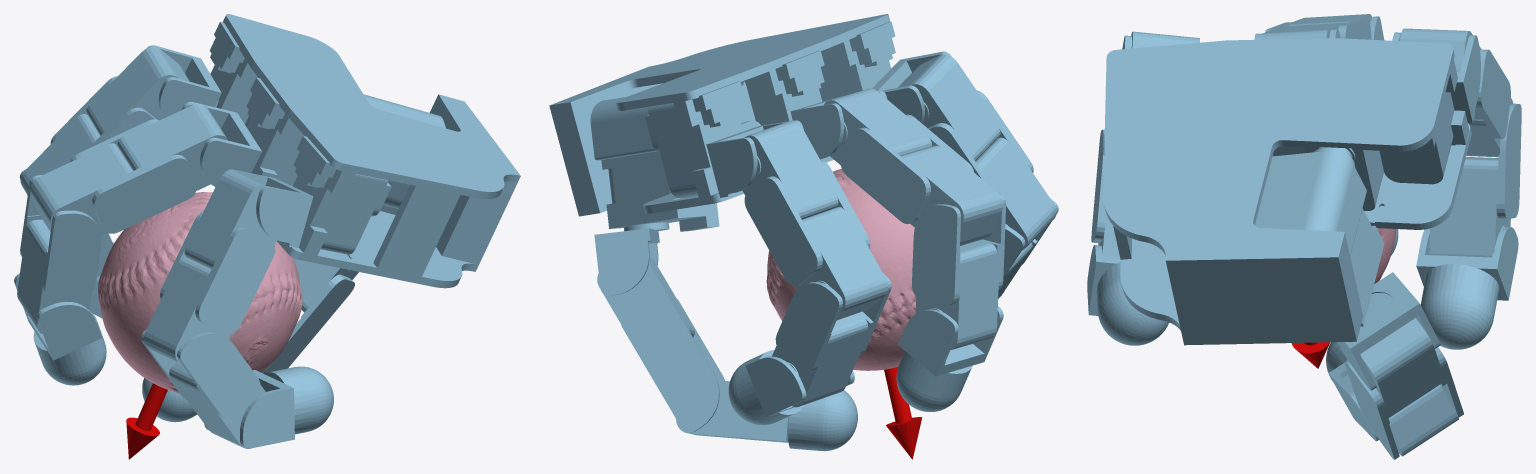
3 views of the same model, side by side, from view 1: azimuth 30°, elevation 25°; view 2: azimuth 150°, elevation 25°; view 3: azimuth 270°, elevation 25° (orthographic). The views are drawn at different scales.
Visible parts, largest first — view 1: world, baseball.stl; view 2: world, baseball.stl; view 3: world, baseball.stl.
Part boxes in pixels (x1=…): world: x1=14, y1=14, x2=520, y2=459; baseball.stl: x1=98, y1=192, x2=302, y2=393; world: x1=549, y1=14, x2=1058, y2=459; baseball.stl: x1=766, y1=169, x2=916, y2=370; world: x1=1087, y1=14, x2=1521, y2=459; baseball.stl: x1=1374, y1=228, x2=1396, y2=283.
Bounding box in the file's own units: 0.1819 × 0.146 × 0.14.
